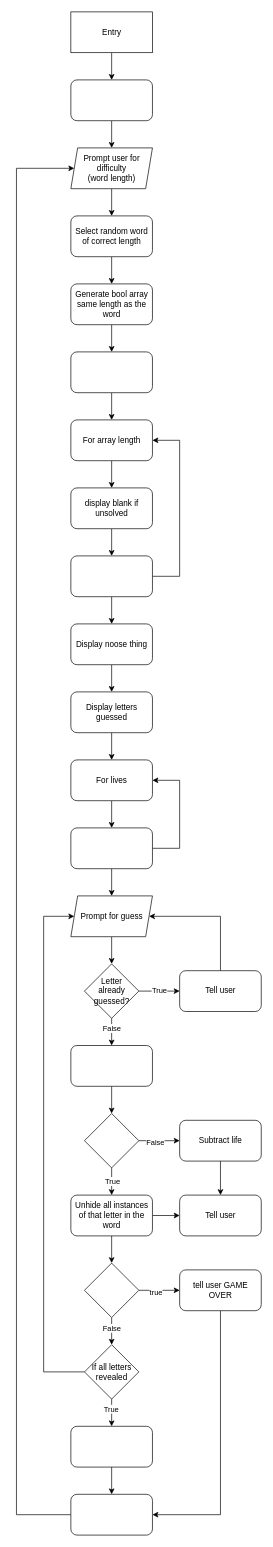
Image size: 273x1547. Some labels were removed from this diagram. The box of each missing label's shape, as (x1, y1, x2, y2) in pixels:
Add letter to guessed word bank: (70, 1045, 152, 1086)
Display letter if solved: (70, 555, 152, 597)
Display next limb: (70, 827, 152, 869)
Generate list of guessed letters (blank): (70, 351, 152, 393)
If lives <= 0: (84, 1262, 139, 1318)
Letter in word: (84, 1113, 139, 1168)
Prompt for replay: (70, 1494, 152, 1535)
Tell user YOU WIN: (70, 1426, 152, 1467)
Welcome the user: (70, 79, 152, 121)
